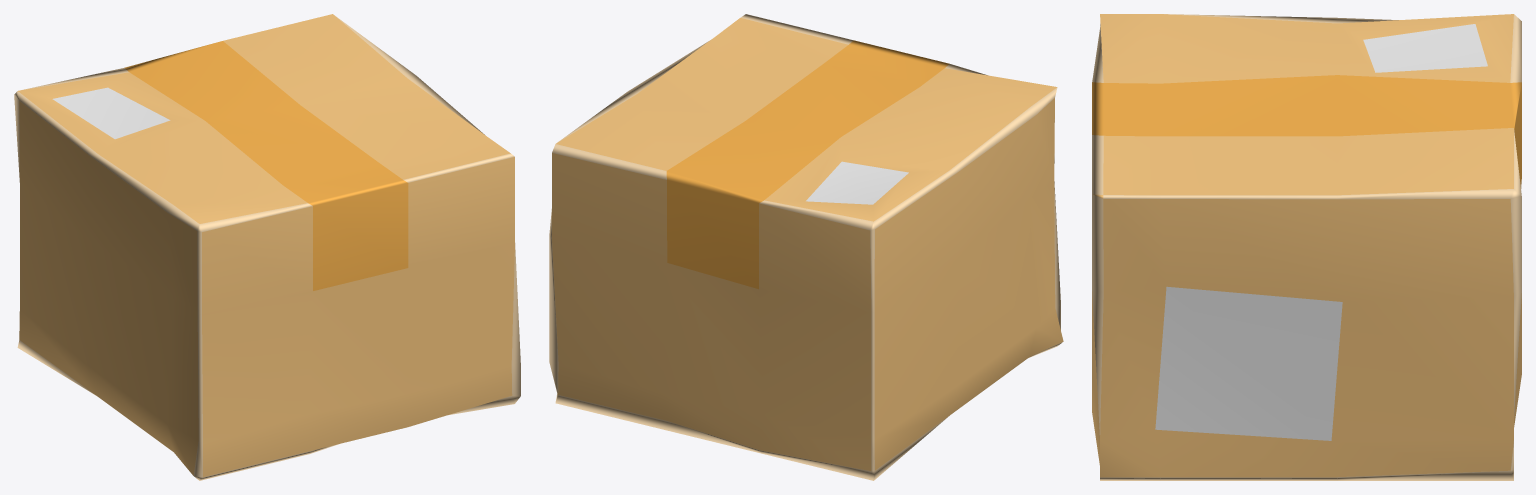
The picture shows the model from 3 angles, left to right: view 1: azimuth 30°, elevation 25°; view 2: azimuth 150°, elevation 25°; view 3: azimuth 270°, elevation 25°; orthographic projection. The views are drawn at different scales.
Parts seen in each view (by area): view 1: box_001; view 2: box_001; view 3: box_001.
Part boxes in pixels (x1,y1,x2,y2): box_001: (14, 14, 520, 480); box_001: (549, 14, 1063, 480); box_001: (1092, 14, 1521, 480).
Bounding box in the file's own units: 200 × 200 × 150.
